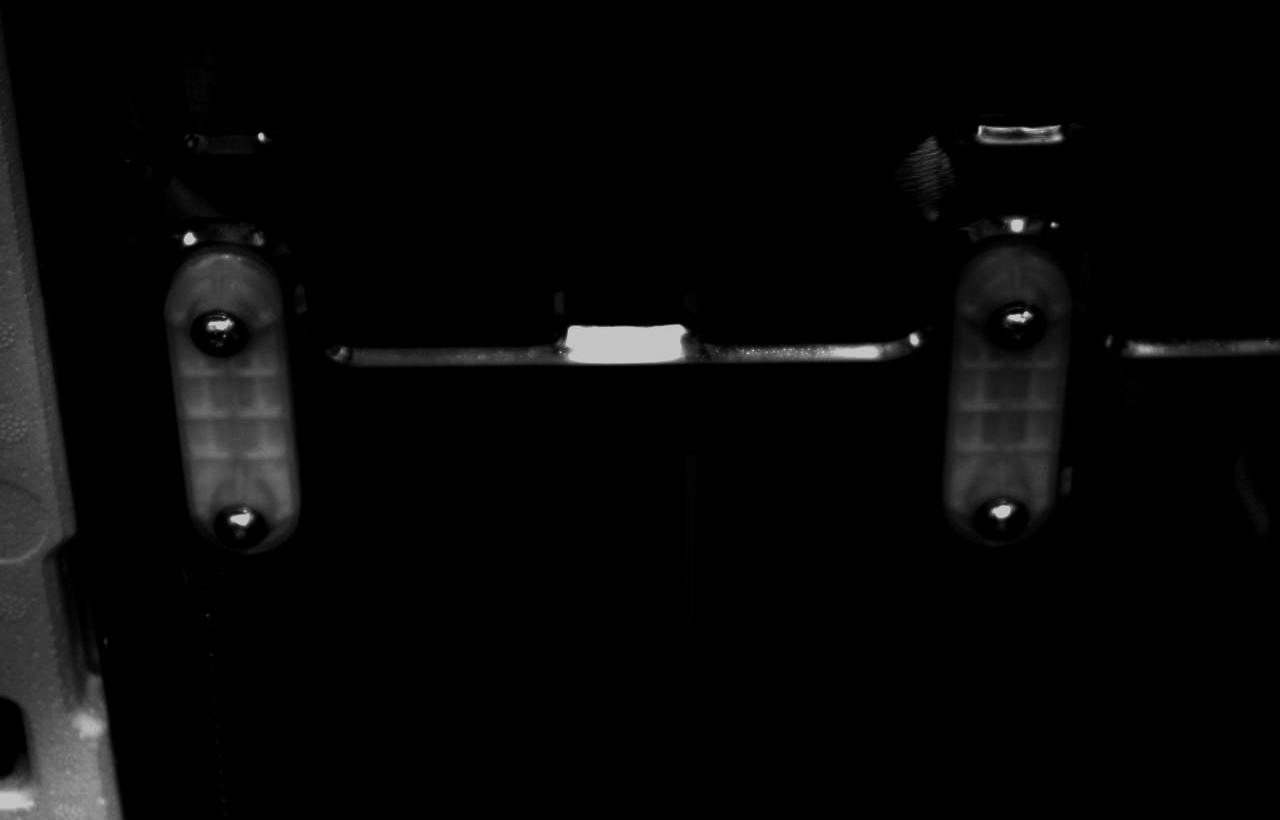vida-ok: (187, 301, 259, 368), (987, 289, 1054, 357), (967, 475, 1033, 544), (207, 499, 273, 558)
